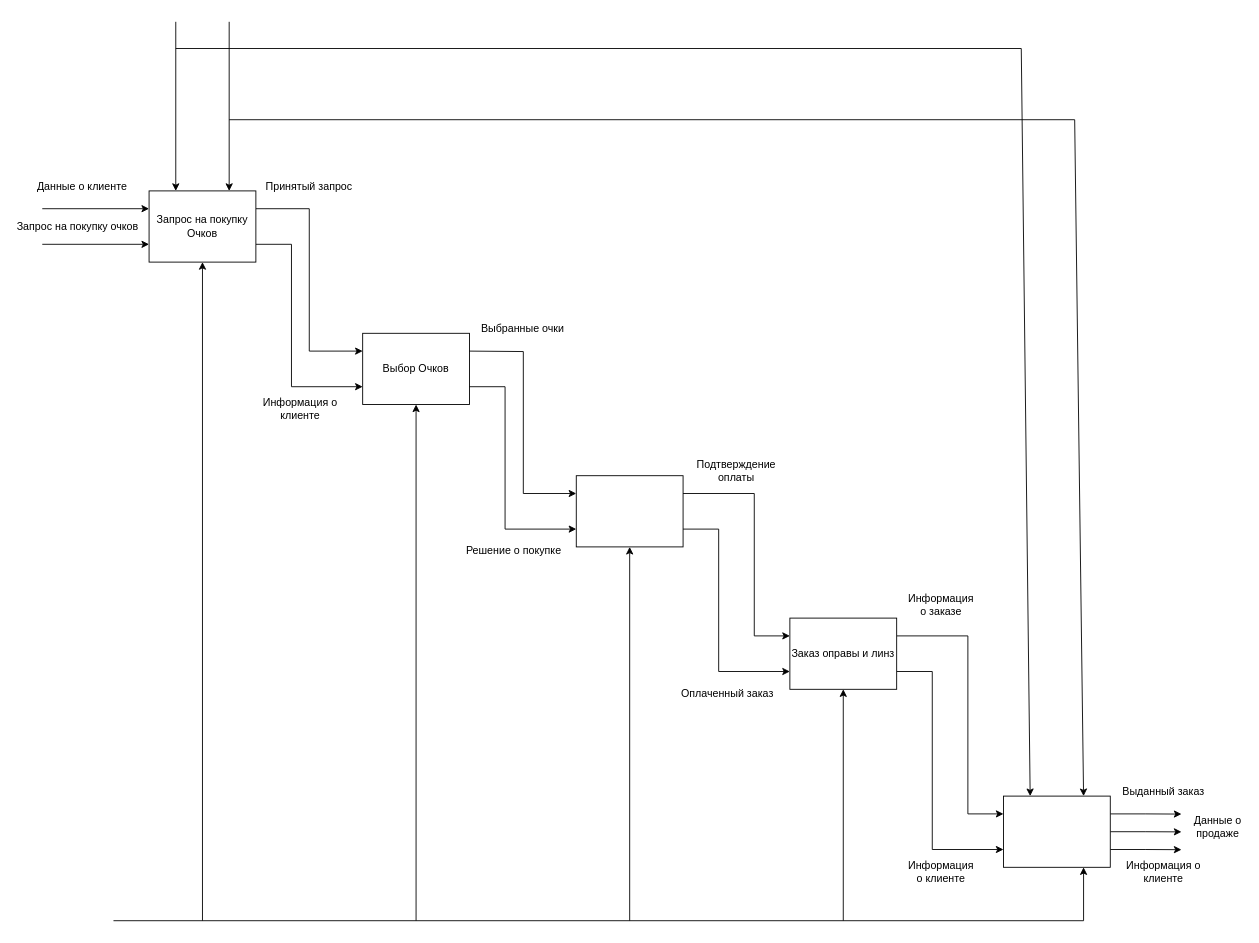
Image size: 1259x943. Some labels were removed from this diagram. The box of each missing label's shape, as (x1, y1, x2, y2) in pixels:
Выдача Заказа: (1003, 795, 1110, 867)
Оплата: (575, 475, 683, 547)
